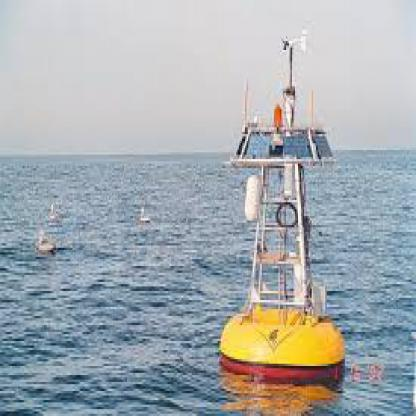buoy: (215, 18, 354, 389)
